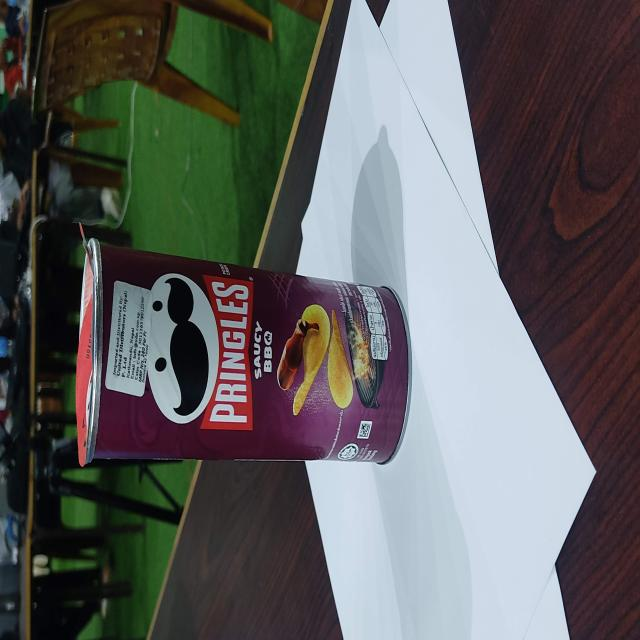Camer Stand: (74, 224, 413, 468)
Chair: (11, 1, 273, 638)
